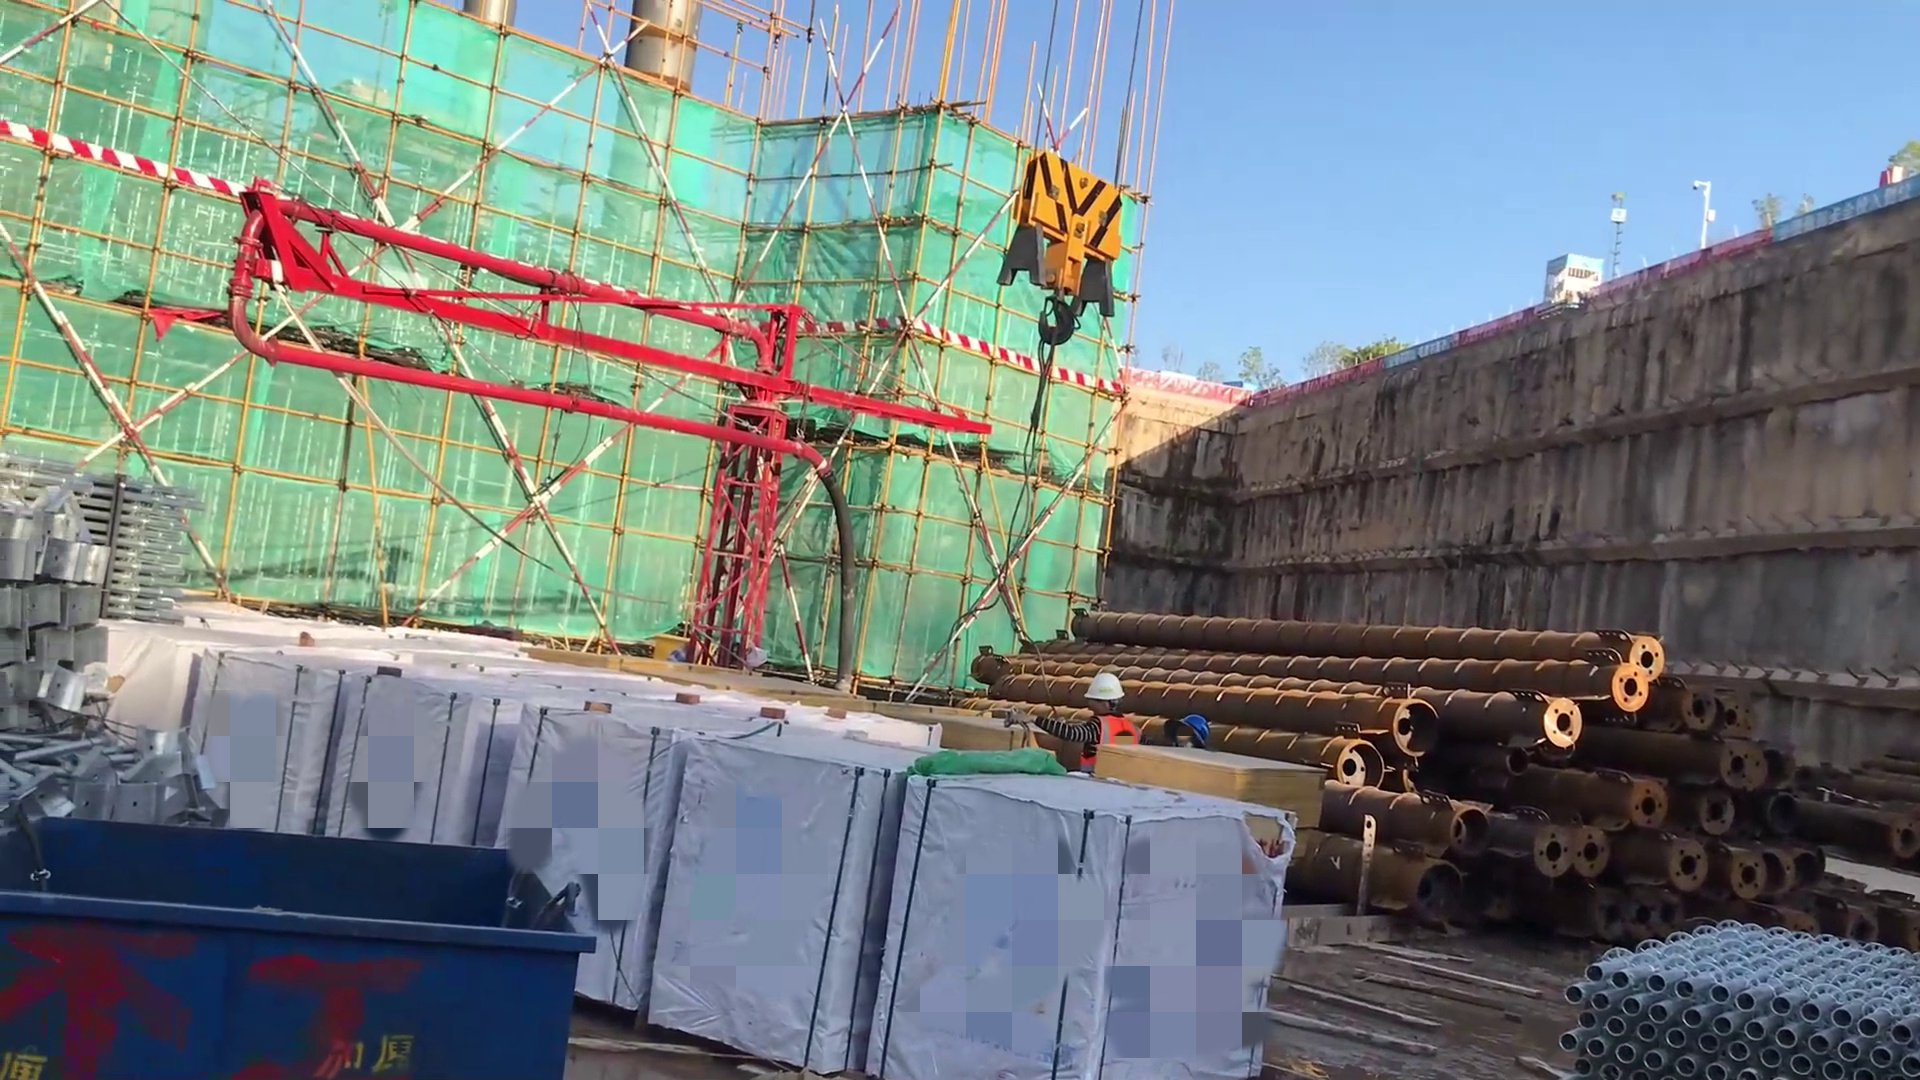board: (1095, 737, 1316, 849)
ebox: (634, 621, 725, 687)
helmet: (1162, 701, 1223, 768), (1081, 673, 1130, 723)
hook: (981, 121, 1143, 456)
hopper: (1, 799, 631, 1080)
person: (995, 667, 1148, 789)
scaffold: (1565, 896, 1908, 1080), (37, 470, 218, 635)
slogan: (1779, 176, 1920, 252), (1386, 334, 1463, 381)
vest: (1068, 715, 1148, 776)
